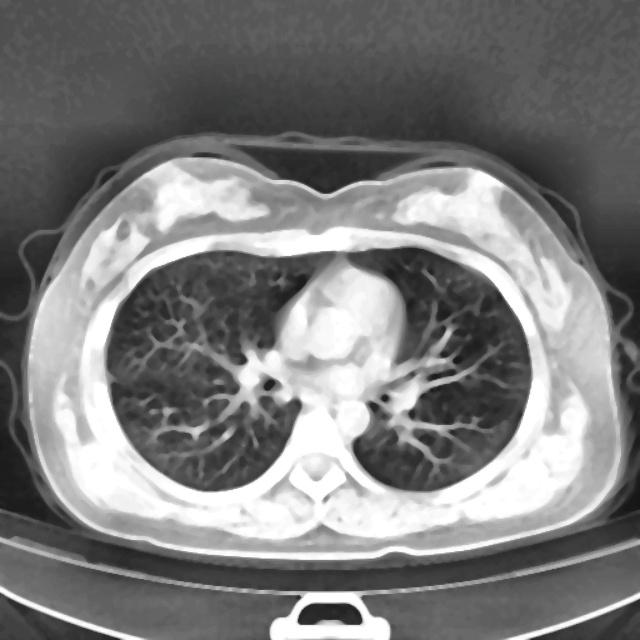covid: (11, 133, 636, 568)
